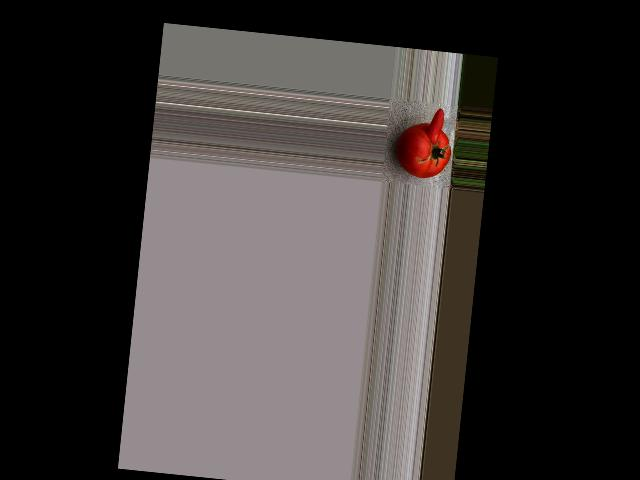tomato: (394, 120, 453, 181)
